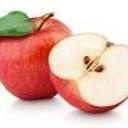apple: (47, 32, 128, 113)
